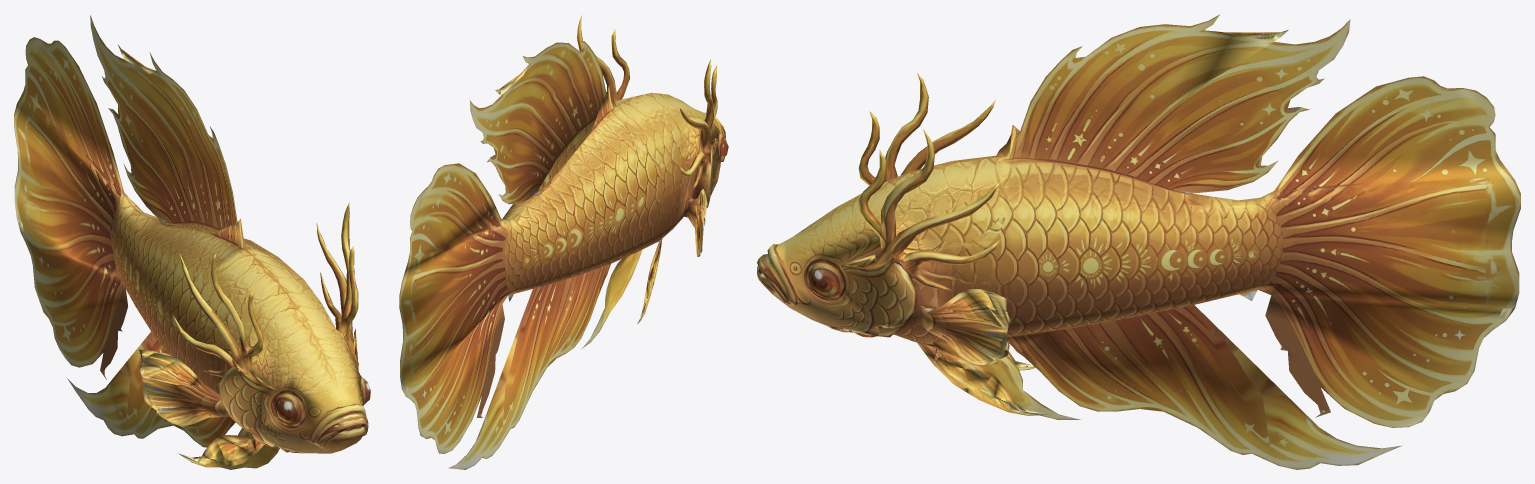
Rendered from King_Gold_Carp_01.fbx.
The picture shows the model from 3 angles, left to right: view 1: azimuth 30°, elevation 25°; view 2: azimuth 150°, elevation 25°; view 3: azimuth 270°, elevation 25°; orthographic projection. The views are drawn at different scales.
Visible parts, largest first — view 1: King_Gold_Carp_01; view 2: King_Gold_Carp_01; view 3: King_Gold_Carp_01.
Boxes of the visible parts, x1,y1,x2,y2 form: King_Gold_Carp_01: [14, 15, 370, 469]; King_Gold_Carp_01: [399, 15, 728, 469]; King_Gold_Carp_01: [757, 14, 1520, 469].
Size of the model in its own units: 35.35 by 65.82 by 99.8.
